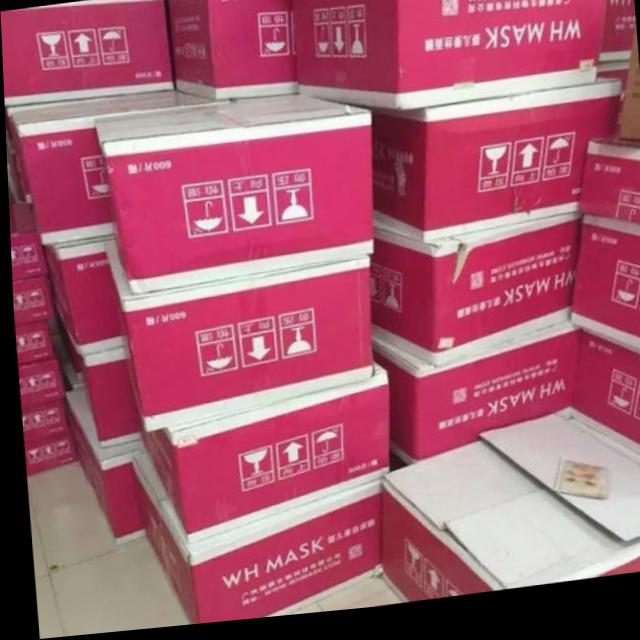box: (92, 98, 370, 296), (99, 235, 370, 435), (375, 416, 640, 610), (137, 367, 385, 547), (128, 453, 377, 628), (362, 88, 619, 250), (291, 0, 606, 118), (362, 222, 582, 374), (5, 92, 220, 245), (369, 330, 579, 473), (0, 0, 174, 105), (168, 0, 297, 104), (59, 388, 141, 548), (567, 226, 640, 370), (39, 237, 122, 355), (566, 341, 640, 460), (78, 344, 138, 448), (577, 144, 640, 237), (593, 71, 631, 146), (598, 0, 635, 75), (616, 40, 640, 153), (20, 430, 72, 477), (14, 358, 61, 406), (10, 275, 51, 327), (17, 399, 64, 443), (12, 320, 51, 366), (8, 233, 45, 279), (57, 360, 81, 390)
